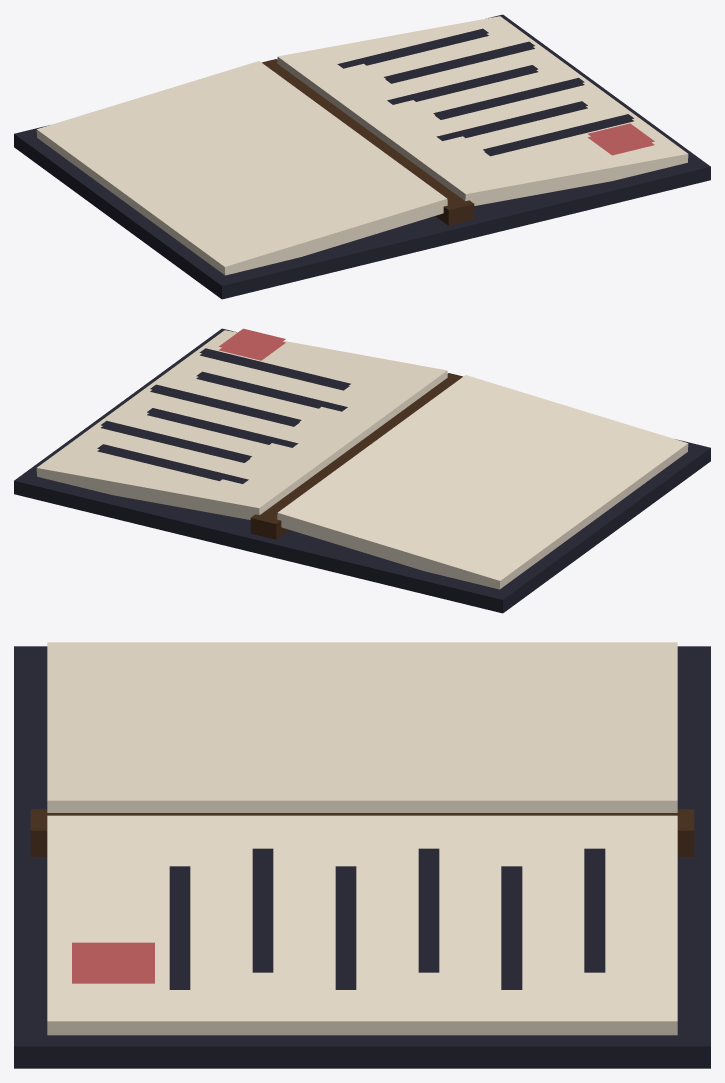
File: prop_ledger_open_lod1.glb
3 views of the same model, one above another, from view 1: azimuth 30°, elevation 25°; view 2: azimuth 150°, elevation 25°; view 3: azimuth 270°, elevation 25° (orthographic). The views are drawn at different scales.
Parts seen in each view (by area): view 1: prop_ledger_open_lod1; view 2: prop_ledger_open_lod1; view 3: prop_ledger_open_lod1.
Part boxes in pixels (x1,y1,x2,y2): prop_ledger_open_lod1: [14, 14, 710, 299]; prop_ledger_open_lod1: [14, 328, 710, 613]; prop_ledger_open_lod1: [14, 642, 710, 1068].
Bounding box in the file's own units: 1.14 × 0.0806 × 0.84.
